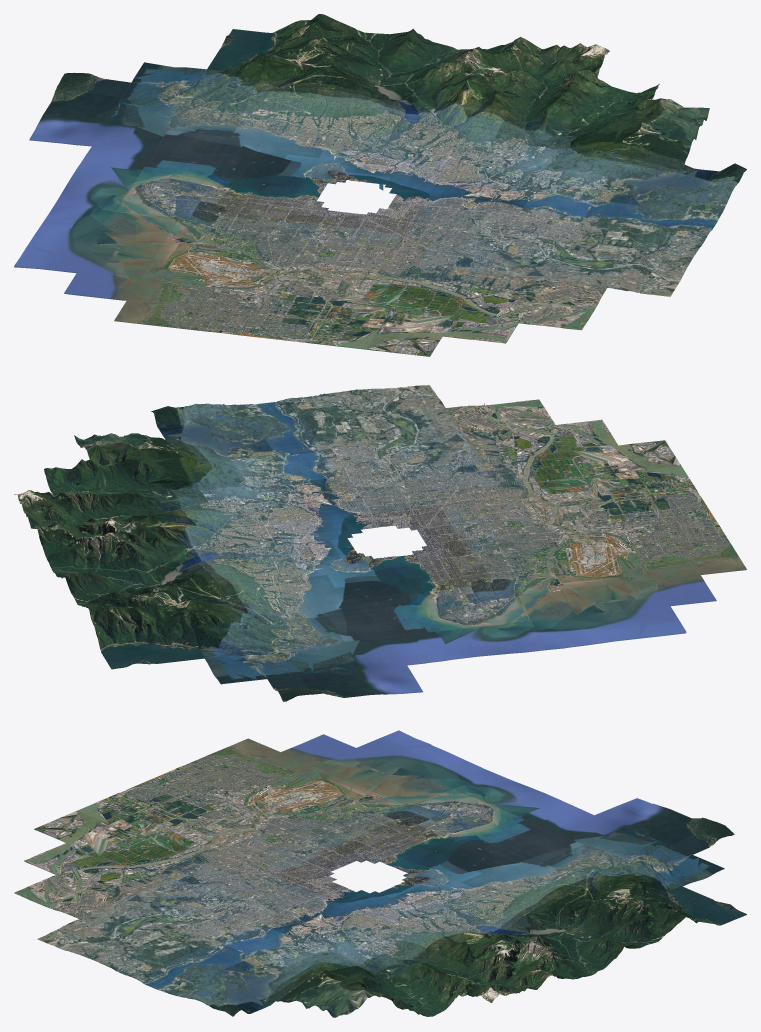
File: foto_fern.glb
3 views of the same model, one above another, from view 1: azimuth 30°, elevation 25°; view 2: azimuth 150°, elevation 25°; view 3: azimuth 270°, elevation 25° (orthographic). The views are drawn at different scales.
Visible parts, largest first — view 1: k57, k4, k0, k63, k64, k10, k78, k61, k8, k75, k9, k48 (+74 smaller); view 2: k27, k26, k65, k6, k59, k4, k22, k61, k67, k14, k13, k60 (+67 smaller); view 3: k8, k64, k50, k44, k51, k58, k47, k48, k53, k3, k33, k79 (+69 smaller).
Part boxes in pixels (x1,y1,x2,y2): k57: (608, 145, 683, 185); k4: (181, 82, 256, 112); k0: (168, 108, 243, 137); k63: (508, 95, 583, 129); k64: (495, 113, 570, 149); k10: (29, 116, 104, 146); k78: (531, 279, 607, 309); k61: (545, 145, 620, 176); k8: (55, 72, 130, 102); k75: (468, 272, 543, 301); k9: (42, 91, 117, 123); k48: (607, 267, 682, 296); k27: (142, 620, 204, 663); k26: (95, 626, 157, 669); k65: (143, 453, 199, 495); k6: (191, 613, 250, 657); k59: (151, 403, 212, 440); k4: (235, 612, 297, 648); k22: (142, 537, 202, 577); k61: (184, 454, 246, 490); k67: (92, 461, 152, 495); k14: (530, 616, 593, 649); k13: (484, 621, 546, 654); k60: (197, 403, 259, 435); k8: (659, 817, 734, 854); k64: (362, 941, 435, 977); k50: (102, 945, 177, 978); k44: (122, 882, 197, 915); k51: (135, 959, 209, 992); k58: (210, 956, 285, 987); k47: (79, 900, 154, 933); k48: (37, 919, 111, 951); k53: (313, 981, 383, 1015); k3: (650, 854, 724, 886); k33: (479, 939, 543, 972); k79: (14, 874, 88, 906).
Bounding box in the file's own units: 37652 × 2236 × 38818.
554 materials, 554 textured.
